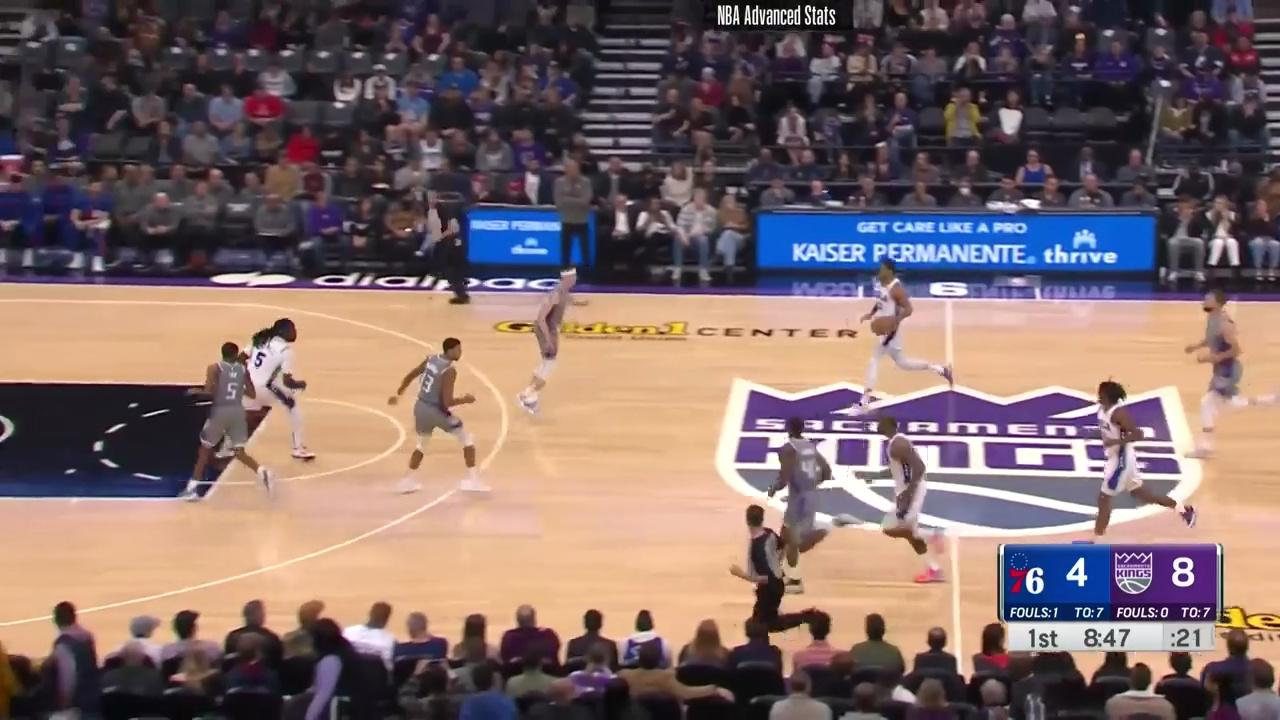Ball: (871, 316, 890, 336)
Person: (1076, 379, 1198, 542), (846, 254, 966, 410), (759, 416, 870, 580), (391, 338, 493, 499), (862, 411, 944, 591), (191, 342, 275, 505), (1188, 281, 1263, 445), (505, 261, 585, 411), (242, 320, 315, 466)
Referee: (727, 502, 828, 647), (423, 182, 483, 310)
